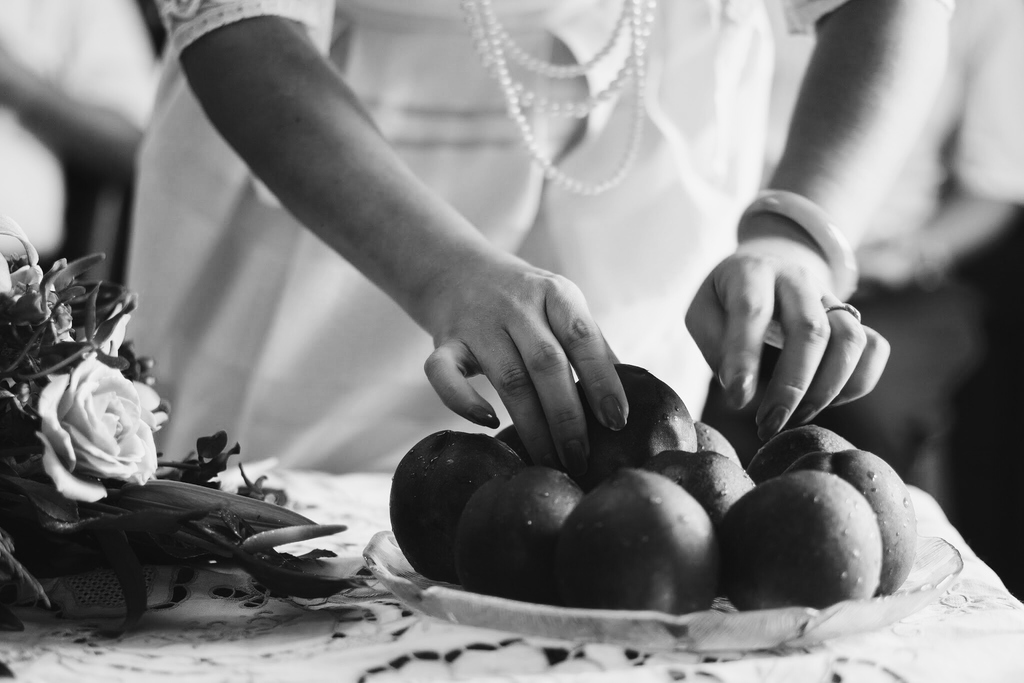Apple: (385, 360, 915, 617), (553, 466, 721, 612)
